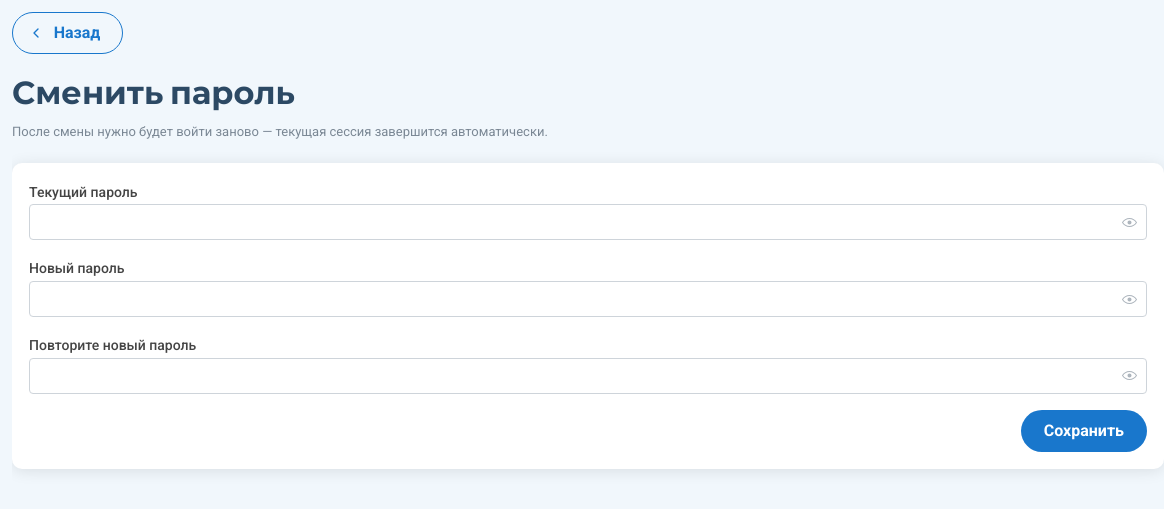
Scenario: ChangePasswordPage › shows validation error when passwords do not match
Type "OldPassword1!" into the password field labelled "Текущий пароль" at (588, 222), box 30,205 -> 1146,239
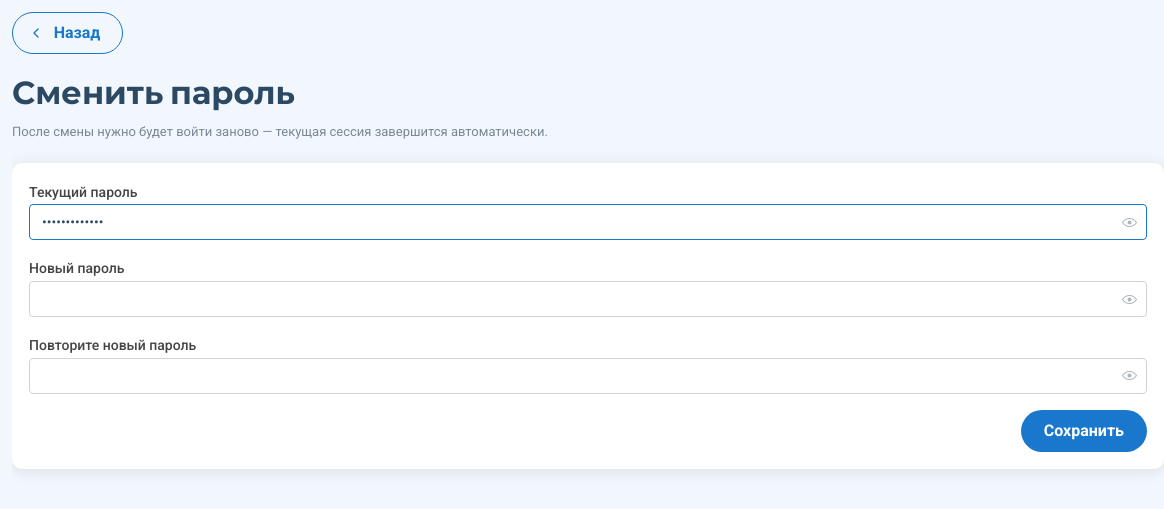
Type "NewPassword1!" into the password field labelled "Новый пароль" at (588, 299), box 30,282 -> 1146,316
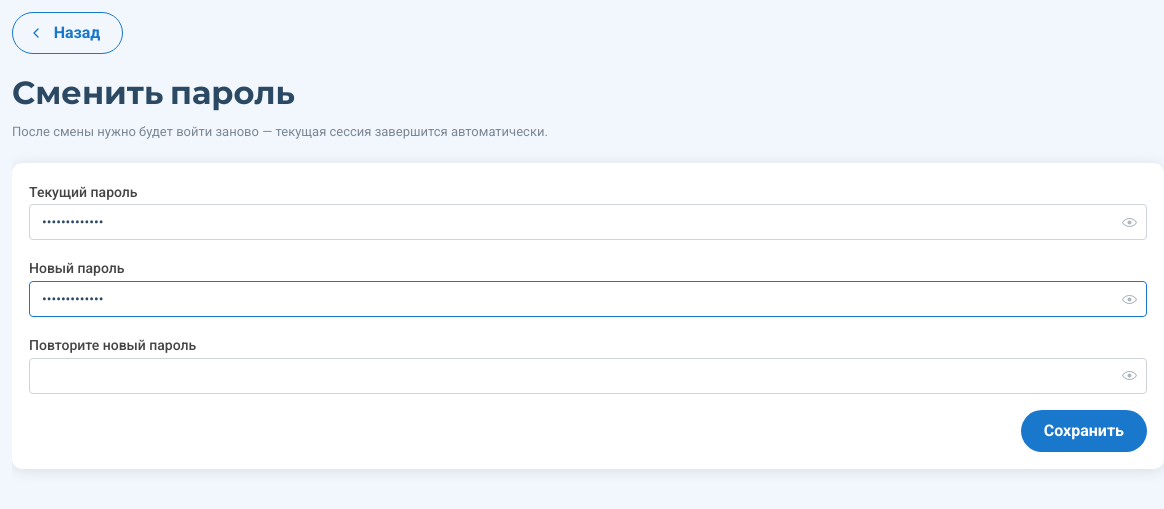
Type "DifferentPassword1!" into the password field labelled "Повторите новый пароль" at (588, 376), box 30,359 -> 1146,393
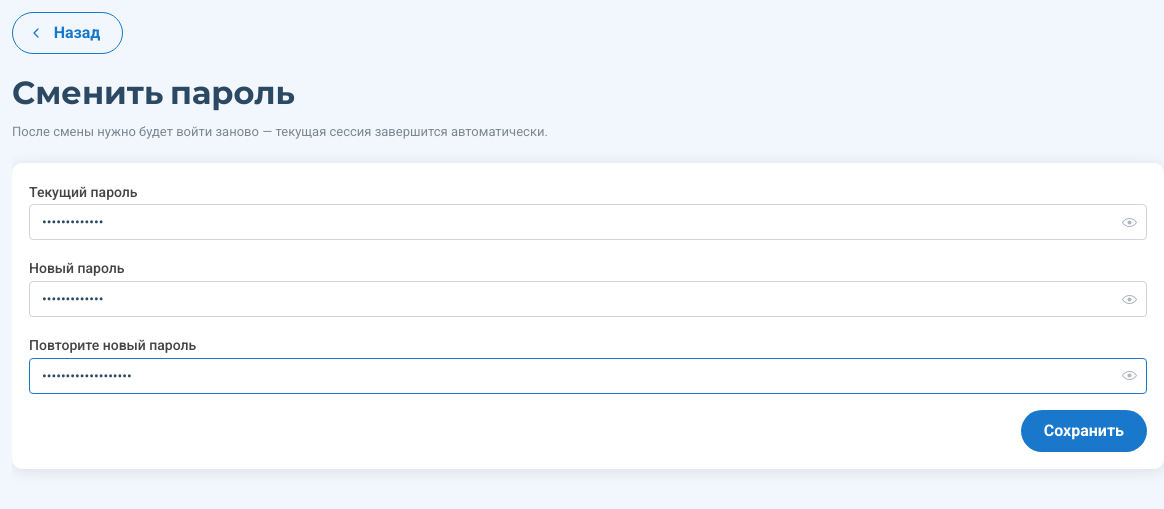
Click the button "Сохранить" at (1084, 431), box 1021,410 -> 1147,452
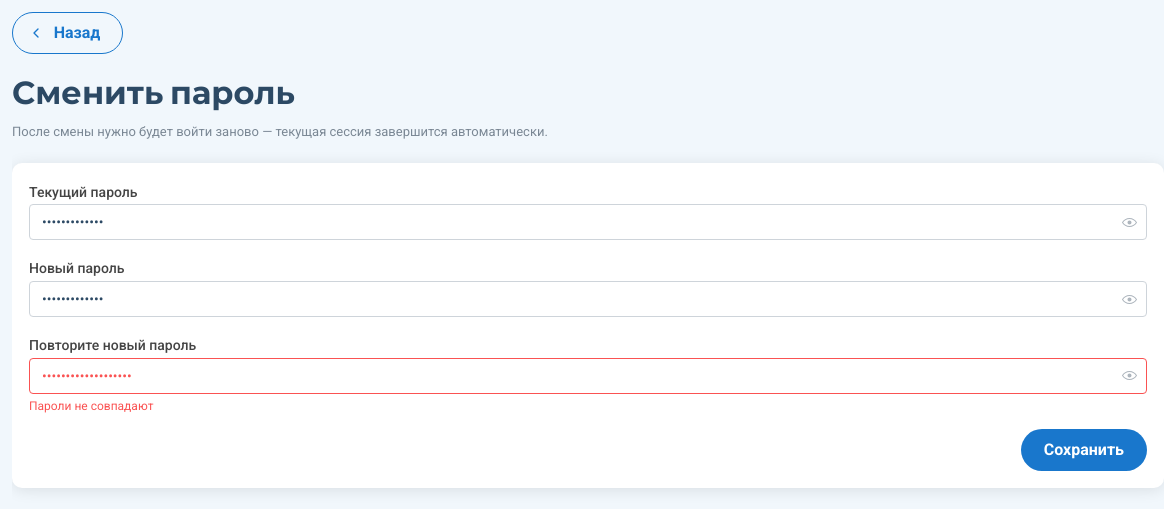
expect the text "Пароли не совпадают" is shown: met, box 29,399 -> 154,413
